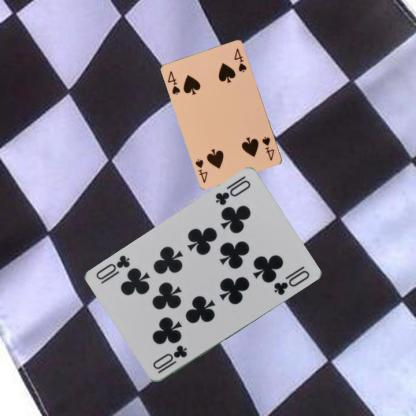10c: (150, 343, 188, 375), (212, 178, 252, 208)
4s: (165, 68, 182, 97), (260, 134, 276, 162)
